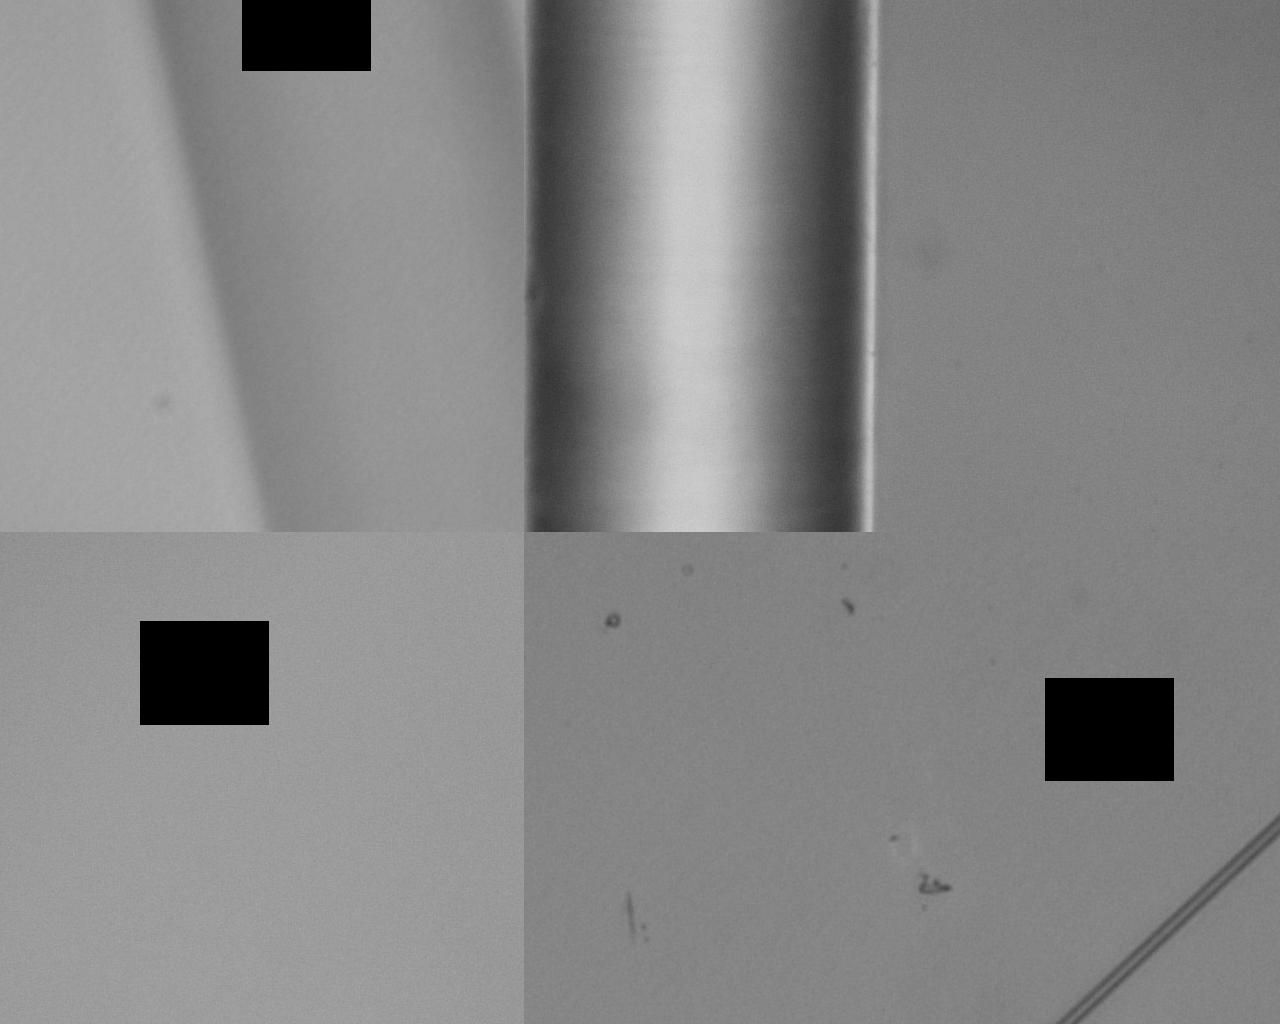fiber: (127, 247, 1151, 335)
